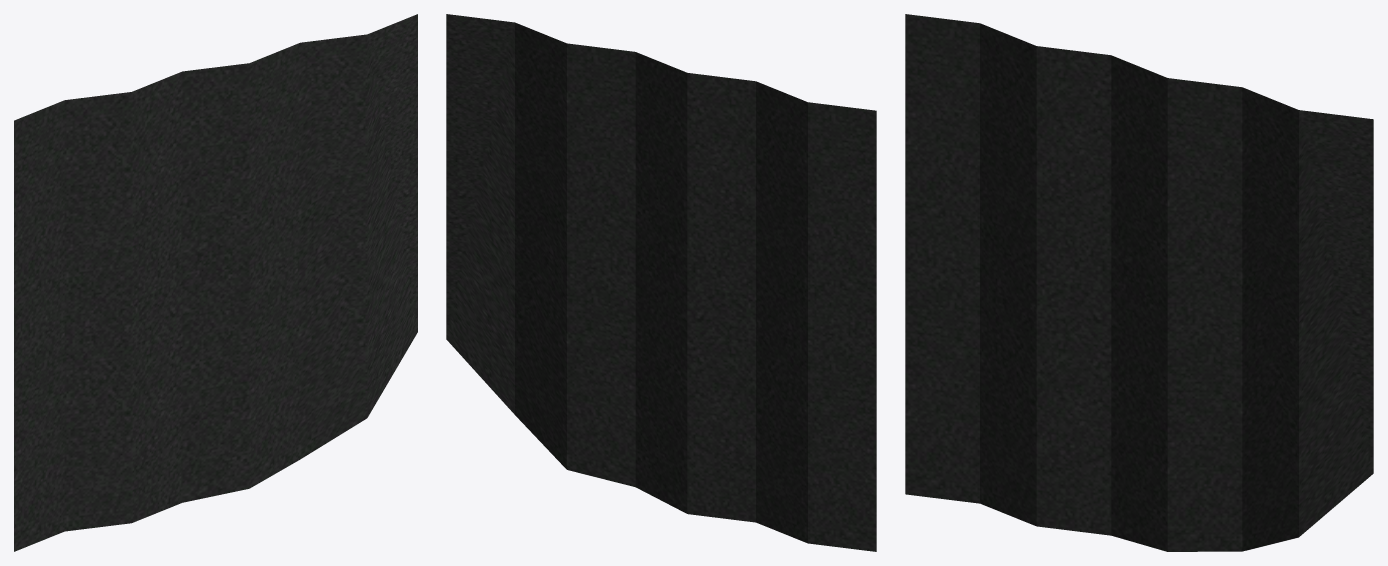
The model's file is Curtain.glb.
3 views of the same model, side by side, from view 1: azimuth 30°, elevation 25°; view 2: azimuth 150°, elevation 25°; view 3: azimuth 330°, elevation 25° (orthographic). The views are drawn at different scales.
Parts seen in each view (by area): view 1: Plane; view 2: Plane; view 3: Plane.
Boxes of the visible parts, <box> form: Plane: <box>14,14,417,551</box>; Plane: <box>446,14,876,551</box>; Plane: <box>905,14,1373,551</box>.
Bounding box in the file's own units: 2 × 2 × 0.0696.
Materials: 1 (1 with a texture image).
